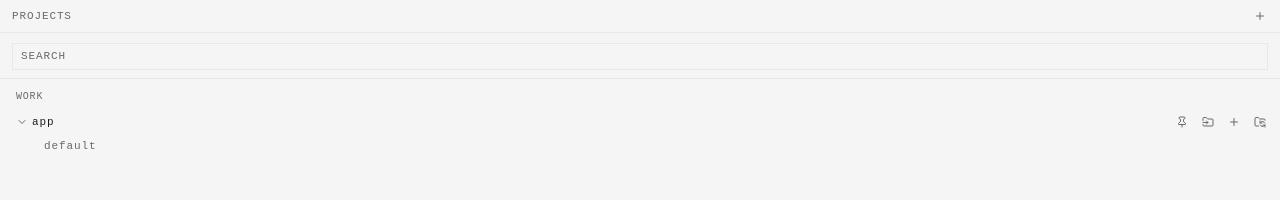
ProjectLeftPanel › adds a root trunk and activates it
This screenshot has width=1280, height=200.
Click the button named "Add root trunk".
click(1234, 122)  # box [1222,110,1246,134]
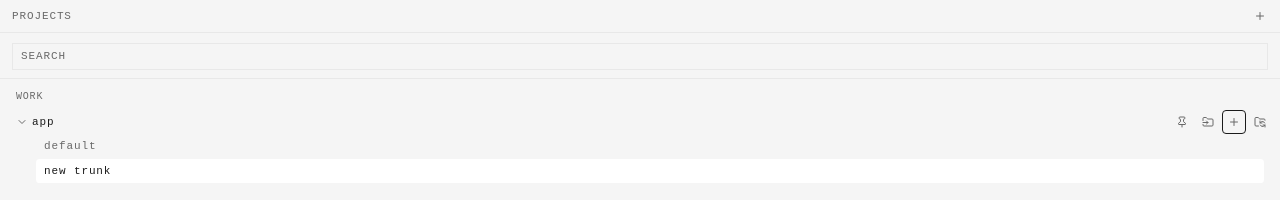
Check: the button "new trunk" is shown, box [36,158,1264,183]
